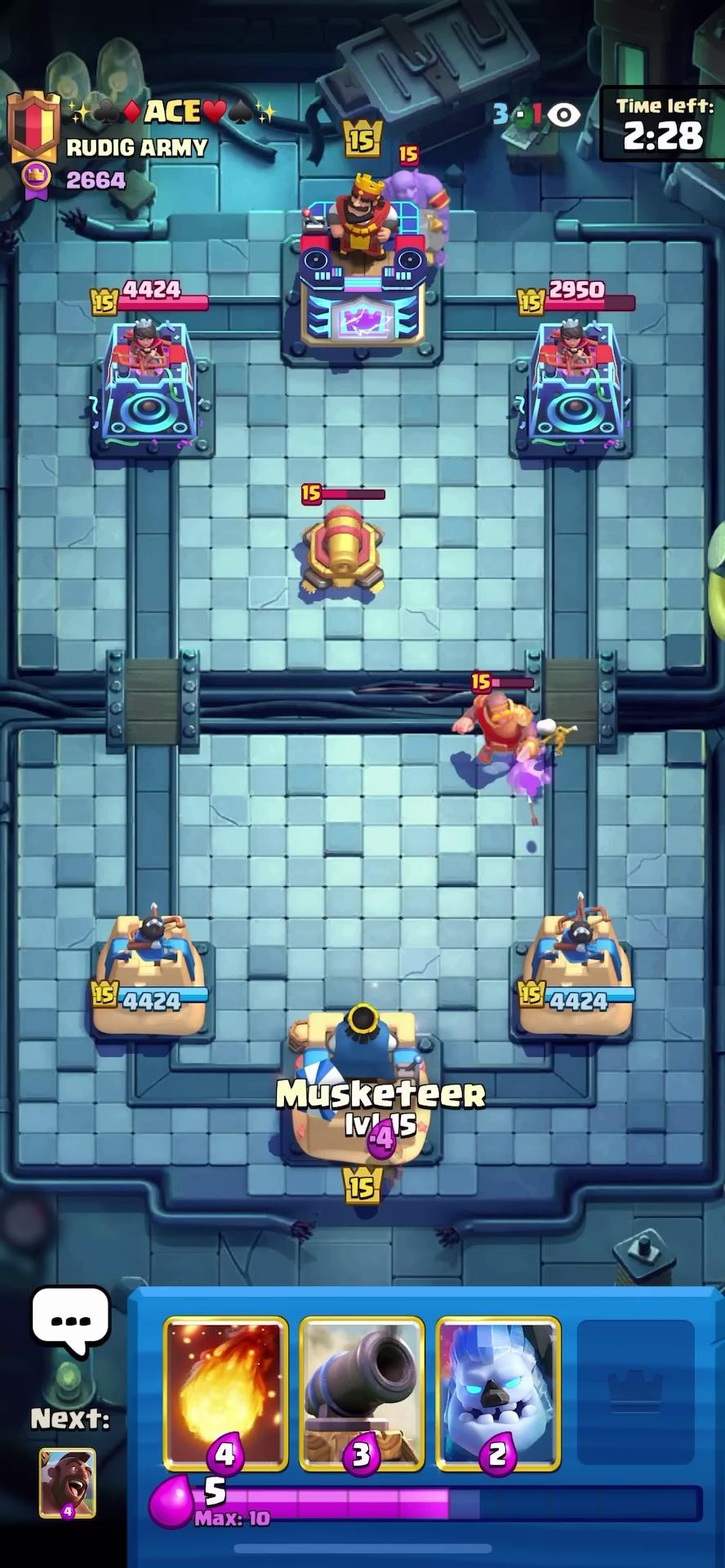skeletons: (533, 708, 567, 760)
